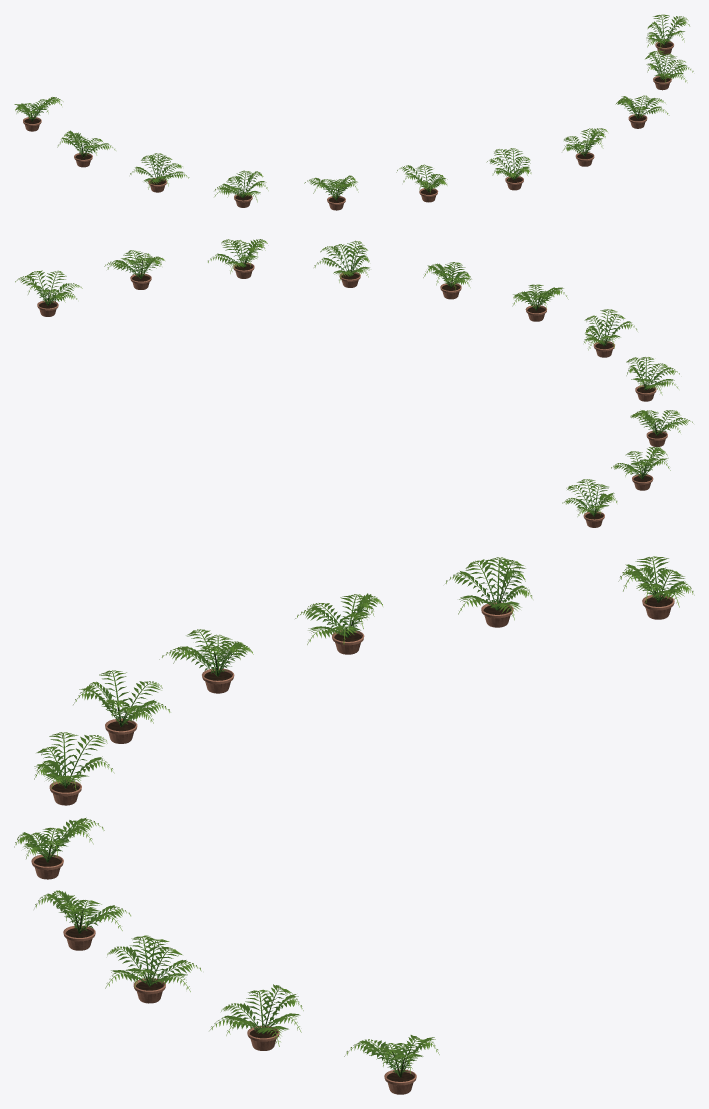
The model's file is planting.glb.
The picture shows the model from 3 angles, top to bottom: view 1: azimuth 30°, elevation 25°; view 2: azimuth 150°, elevation 25°; view 3: azimuth 270°, elevation 25°; orthographic projection. The views are drawn at different scales.
Visible parts, largest first — view 1: FernFronds_A, FernFronds_B, FernFronds_C, FernPots, FernSoil; view 2: FernFronds_A, FernFronds_B, FernFronds_C, FernPots, FernSoil; view 3: FernFronds_A, FernFronds_B, FernFronds_C, FernPots, FernSoil.
Part boxes in pixels (bbox=[...]): FernFronds_A: bbox=[563, 14, 693, 156]; FernFronds_B: bbox=[214, 148, 531, 202]; FernFronds_C: bbox=[14, 97, 189, 189]; FernPots: bbox=[23, 41, 673, 210]; FernSoil: bbox=[24, 42, 672, 202]; FernFronds_A: bbox=[15, 239, 369, 305]; FernFronds_B: bbox=[423, 262, 679, 395]; FernFronds_C: bbox=[562, 410, 693, 516]; FernPots: bbox=[37, 262, 667, 527]; FernSoil: bbox=[39, 264, 666, 519]; FernFronds_A: bbox=[34, 890, 439, 1077]; FernFronds_B: bbox=[14, 629, 253, 862]; FernFronds_C: bbox=[295, 556, 694, 644]; FernPots: bbox=[31, 595, 674, 1094]; FernSoil: bbox=[34, 597, 671, 1081].
Bounding box in the file's own units: 8.52 × 0.4954 × 4.84.
Materials: 3 (3 with a texture image).
